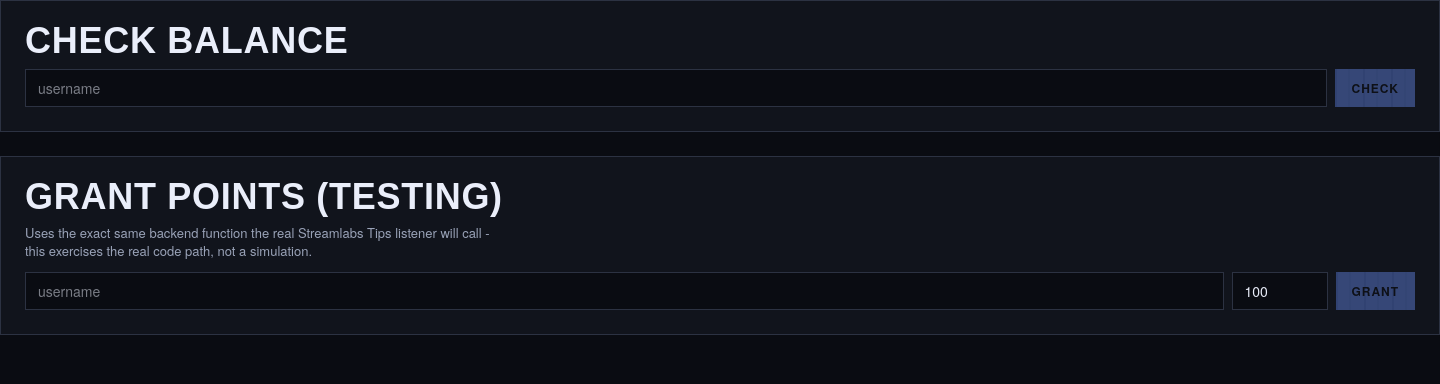
Scenario: PointsTool › grants points and shows the new balance
Type "someviewer" into the field with placeholder "username" below "Grant Points (testing)" at (624, 291), box [25, 272, 1224, 310]
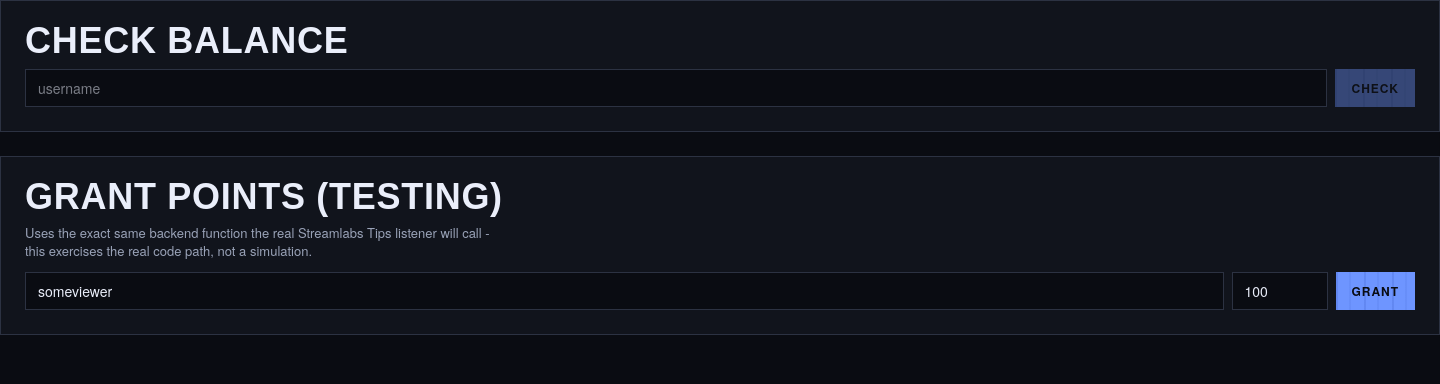
Click the button "Grant" at (1375, 291), box [1336, 272, 1415, 310]
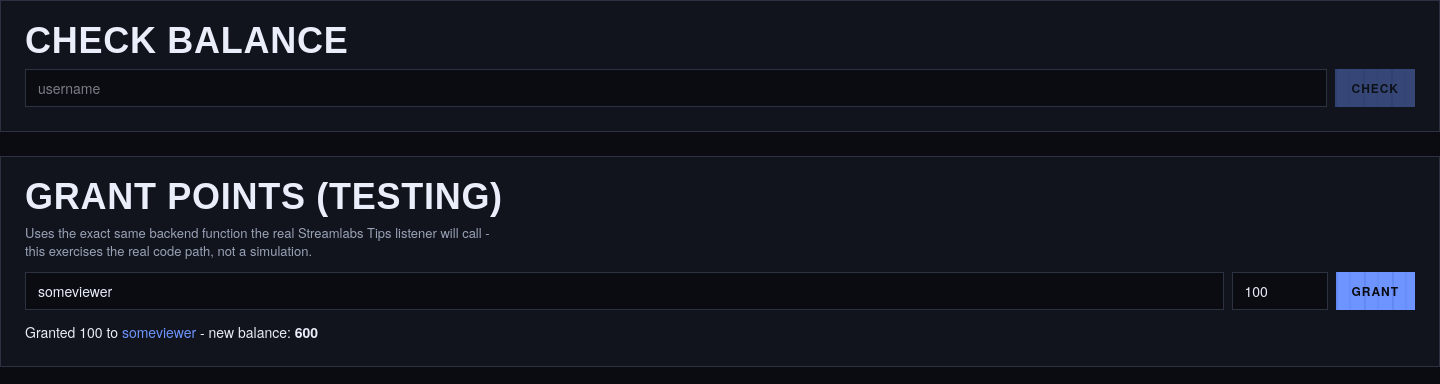
Check: the text "600" is shown, box [295, 322, 318, 342]
